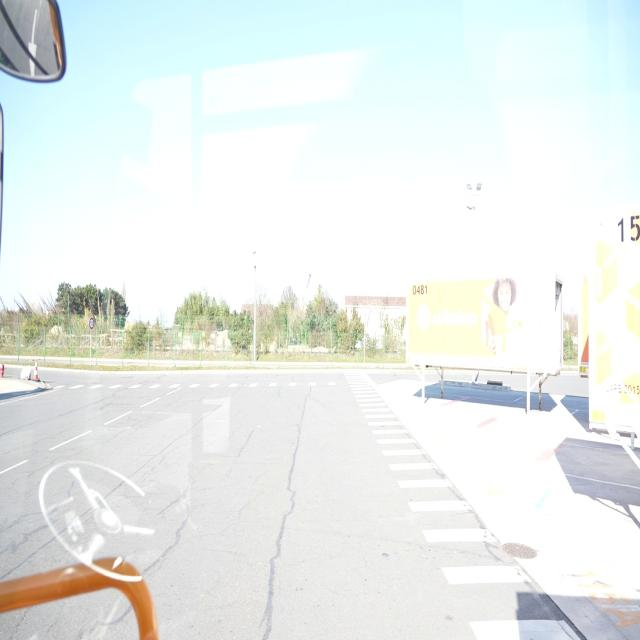Code: (411, 278, 432, 300)
